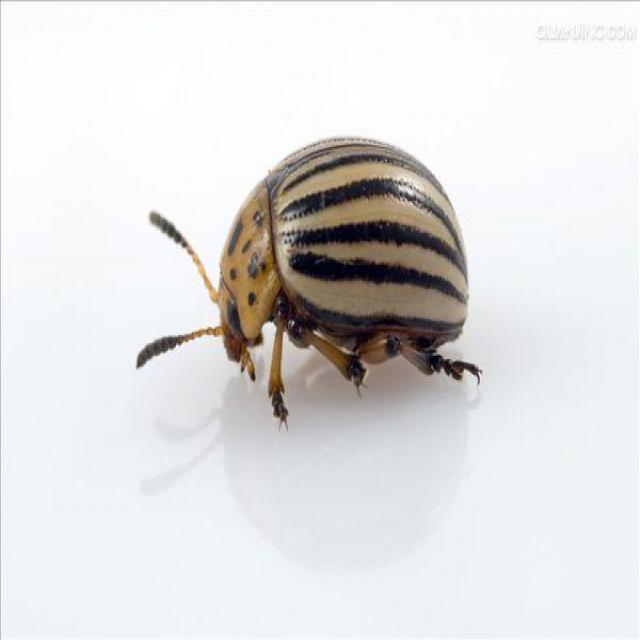ShuCaiHuaBanChong-Grown-: (204, 102, 503, 440)
